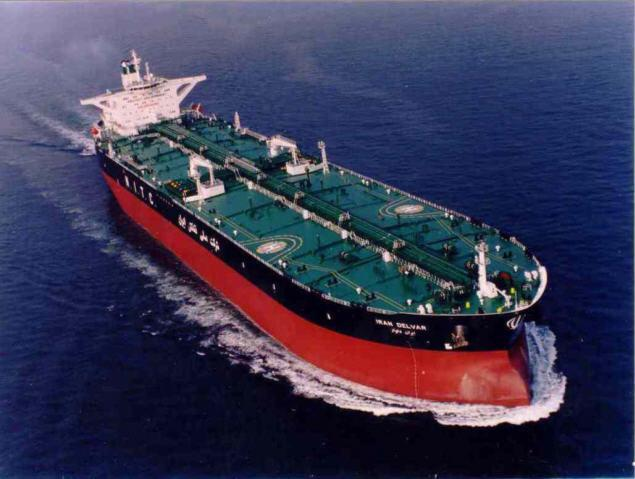Cargoship: (80, 46, 550, 414)
